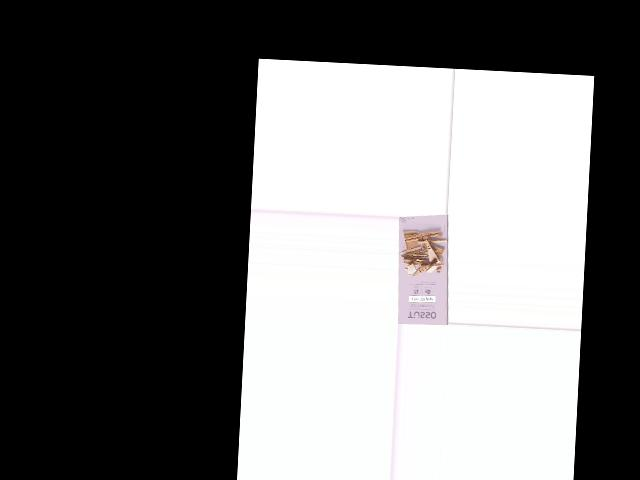chocolate: (396, 212, 450, 324)
